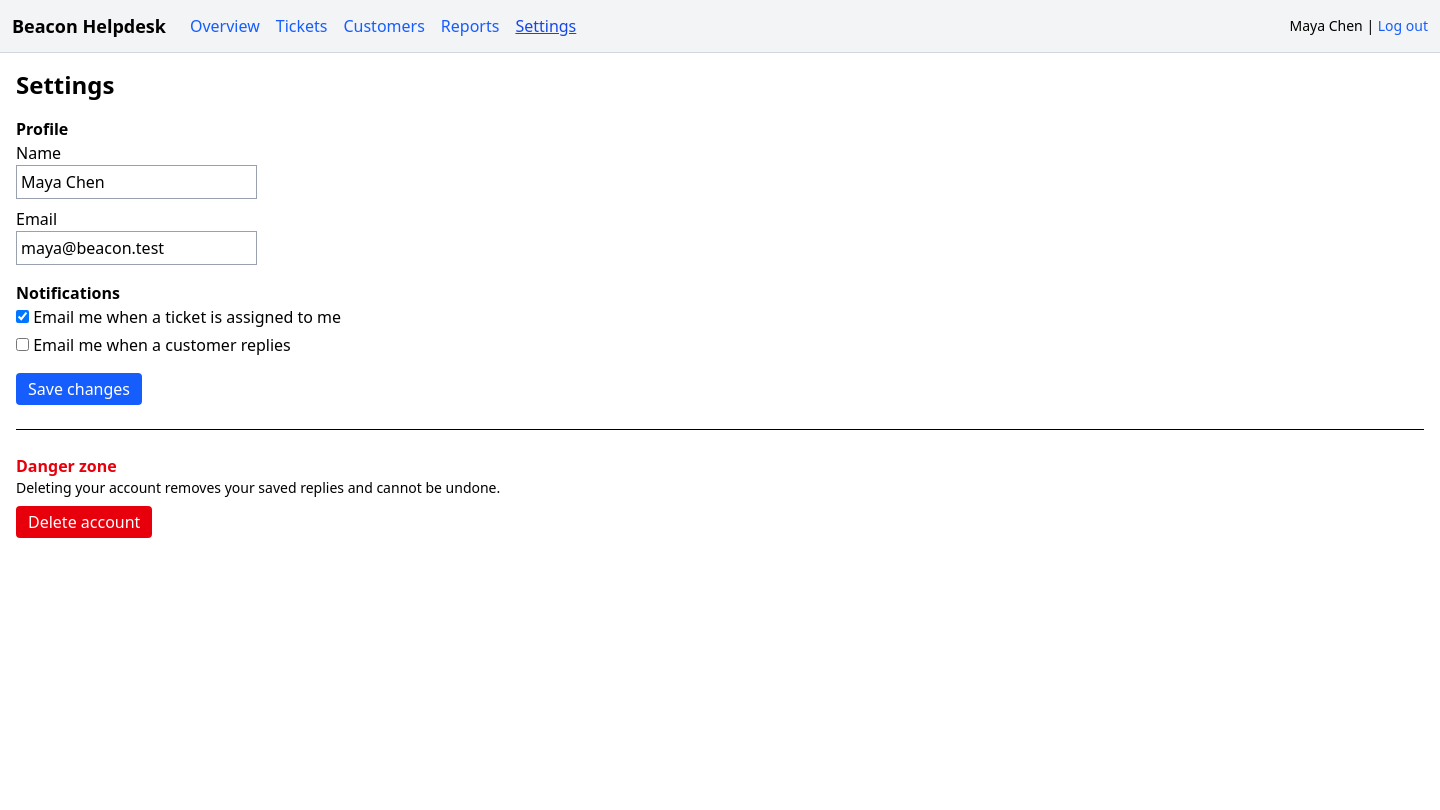
Test case: settings and login › validates email, then saves
The width and height of the screenshot is (1440, 810).
Replace the text in the field labelled "Email" with "not-an-email": (136, 248) [16,231,257,265]
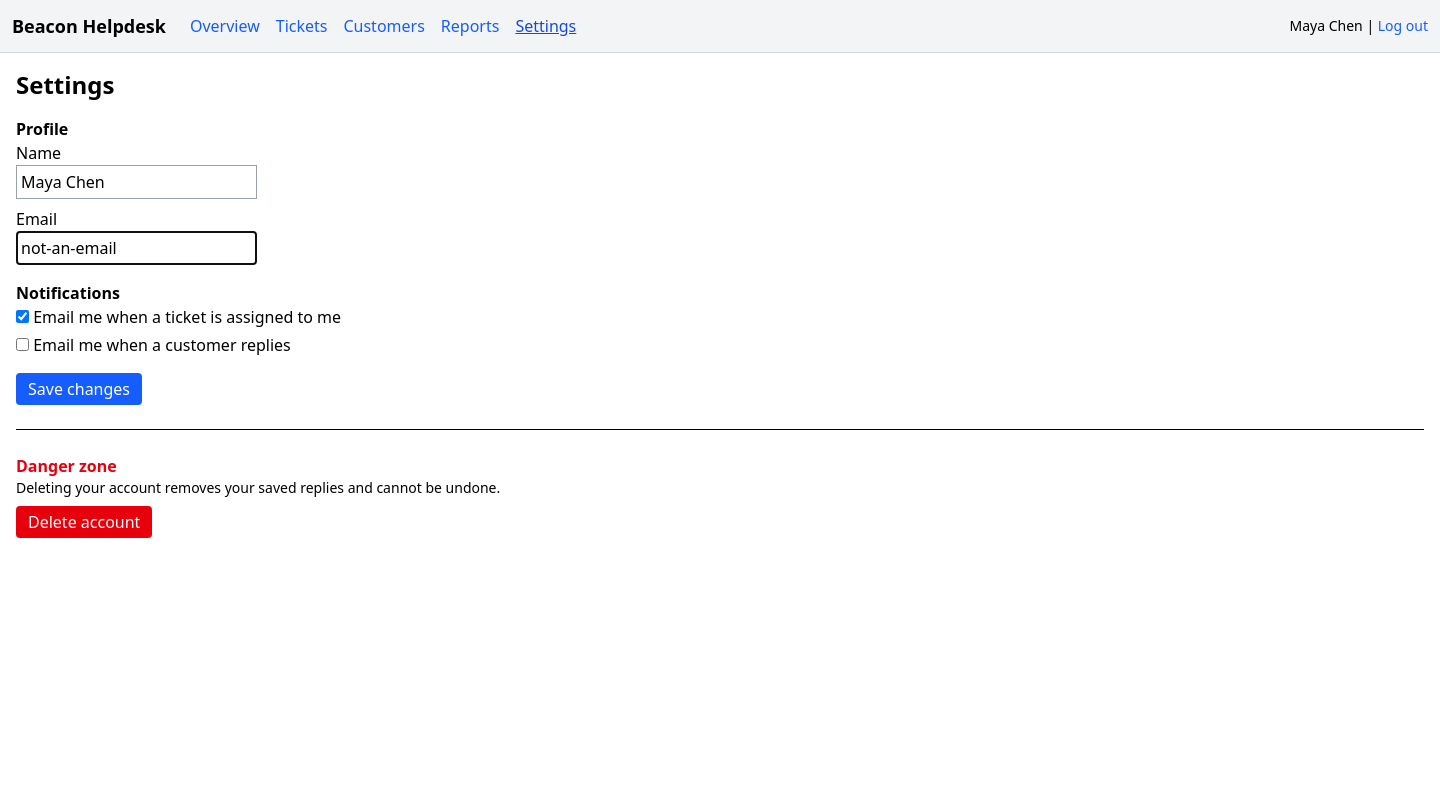
Click the button "Save changes": (79, 389) [16,373,142,405]
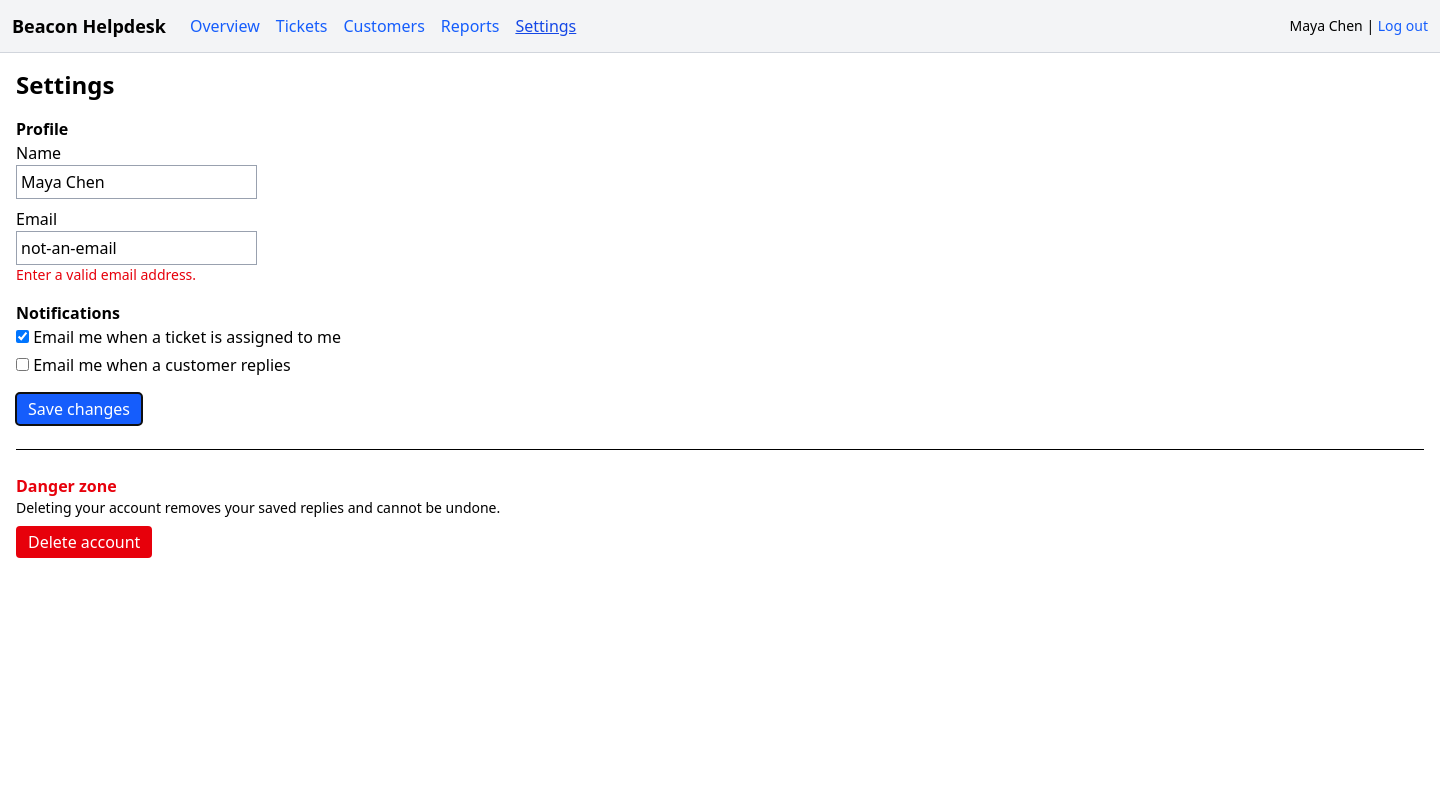
Expected: the text "Enter a valid email address." is shown, [16,265,196,284]
Replace the text in the field labelled "Email" with "maya@studio.test": (136, 248) [16,231,257,265]
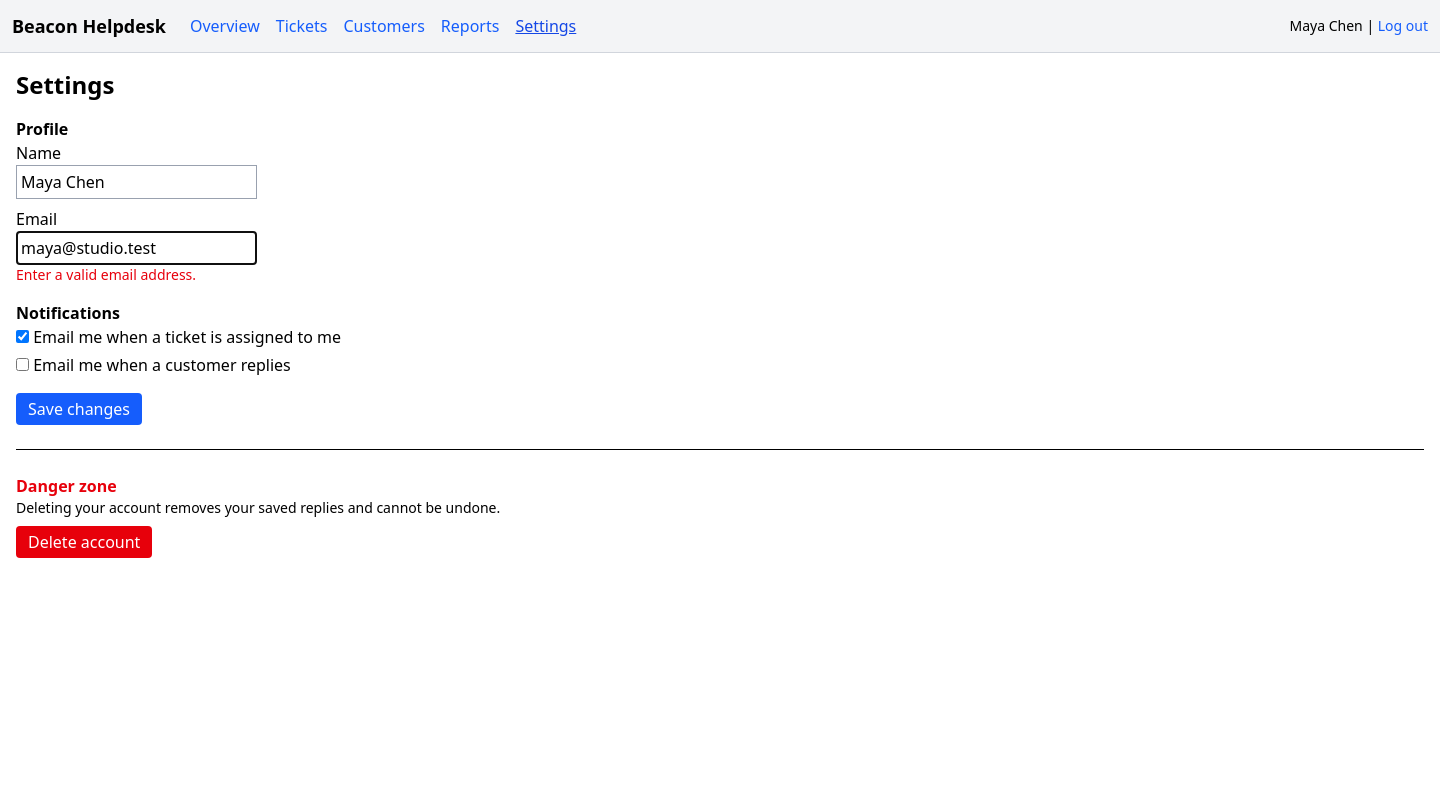
Click the button "Save changes": (79, 409) [16,393,142,425]
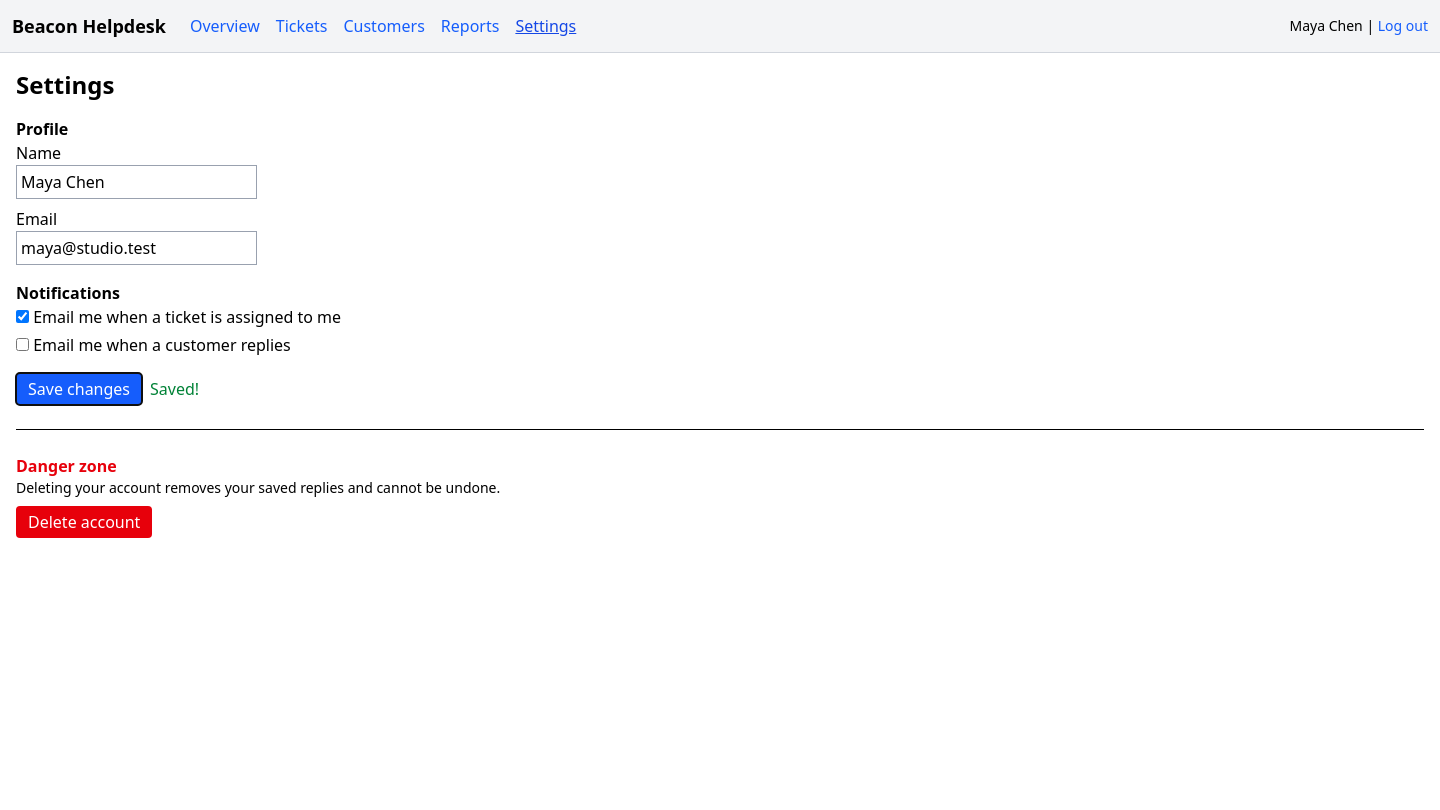
Expected: the message shows "Saved", [150,378,199,400]
